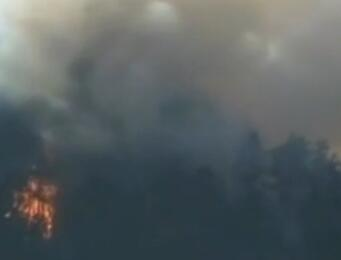fire: (4, 173, 56, 240)
yanwu: (14, 1, 341, 178)
